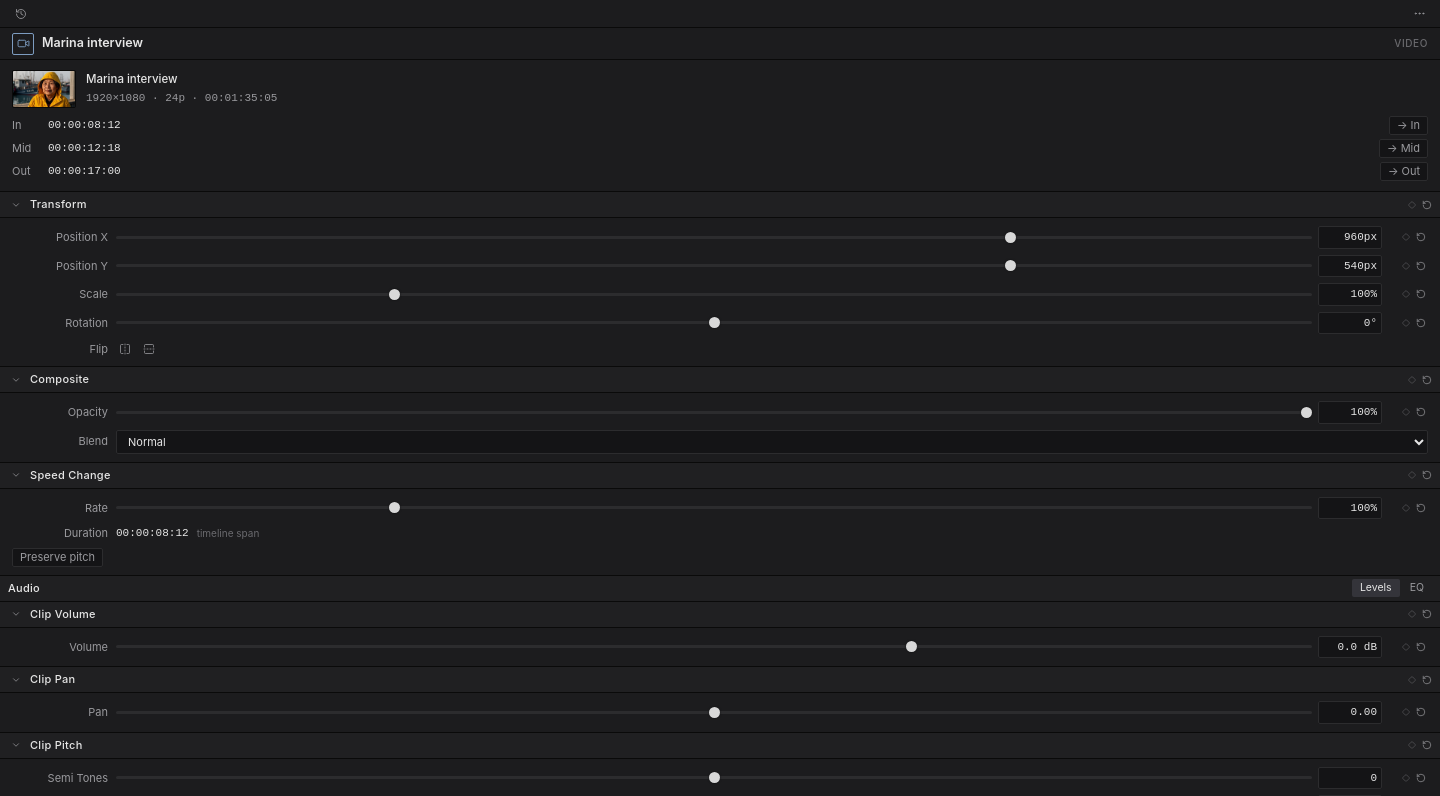
Test: Inspector (R20-W3 D4 — type-driven, no tab strip) › Enter settles the commit immediately; Escape aborts without committing
Replace the text in the field named "Opacity value" with "50" at (1350, 412), box [1318,401,1382,424]
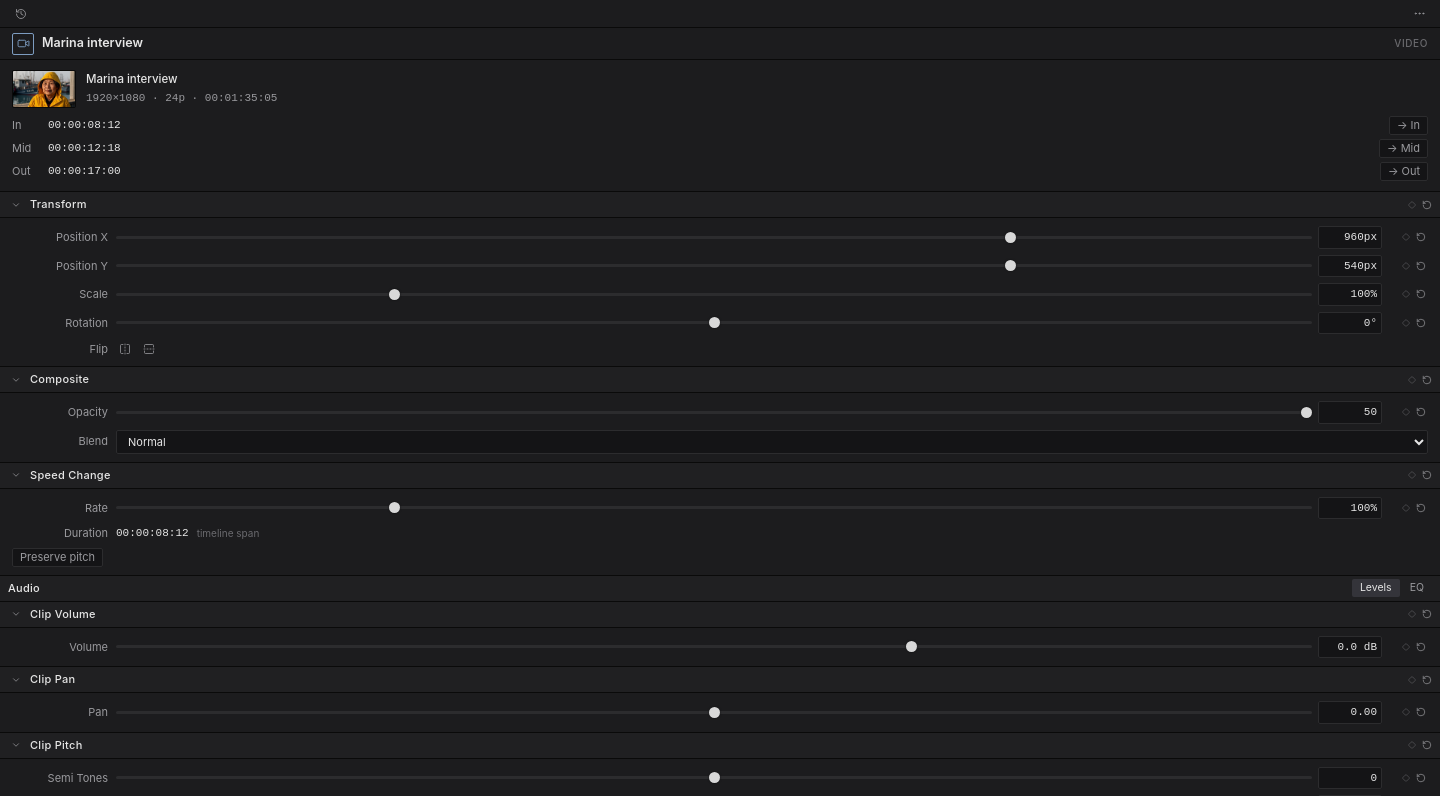
Press Enter in the field named "Opacity value", box [1318,401,1382,424]
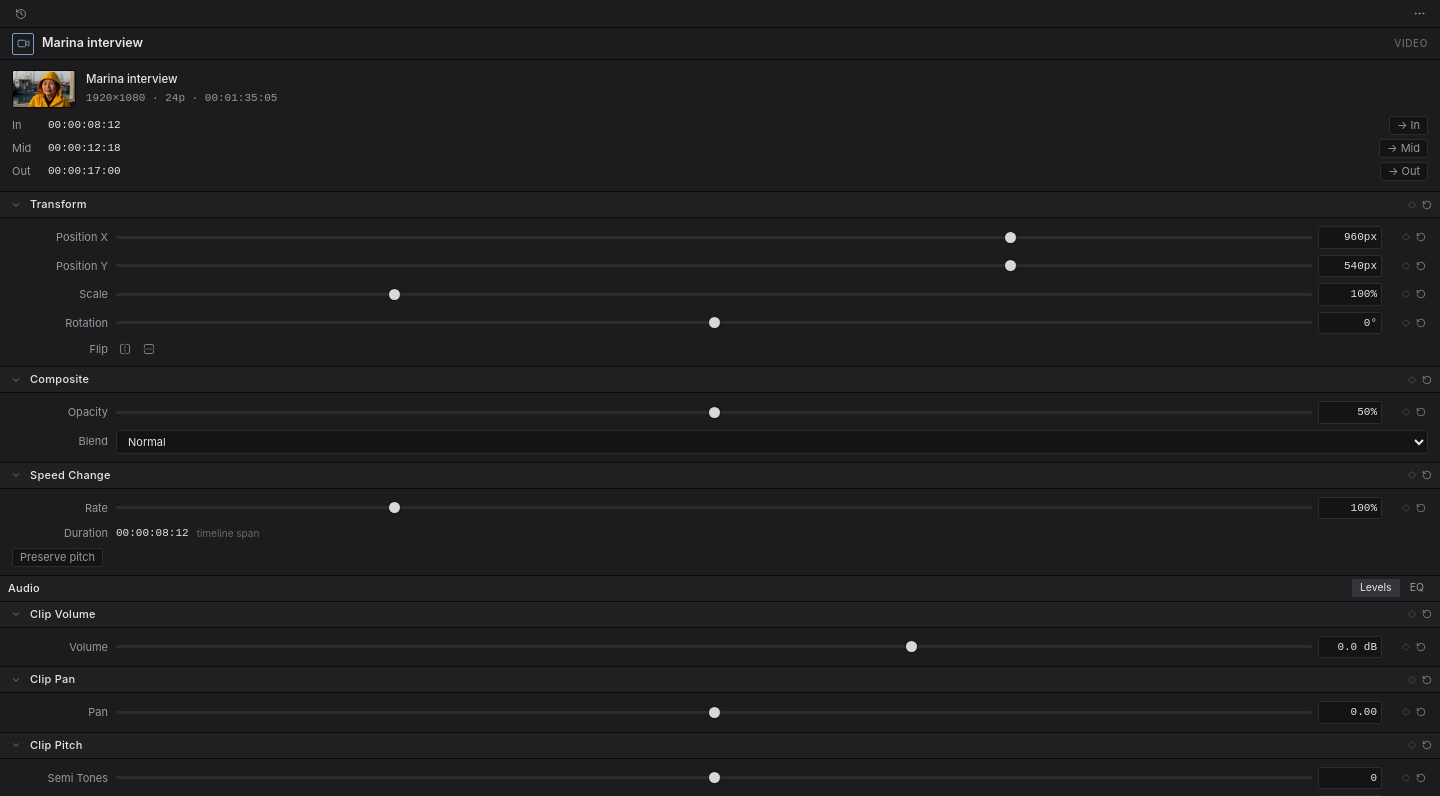
Now the field named "Opacity value" holds "50%"
Replace the text in the field named "Opacity value" with "25" at (1350, 412), box [1318,401,1382,424]
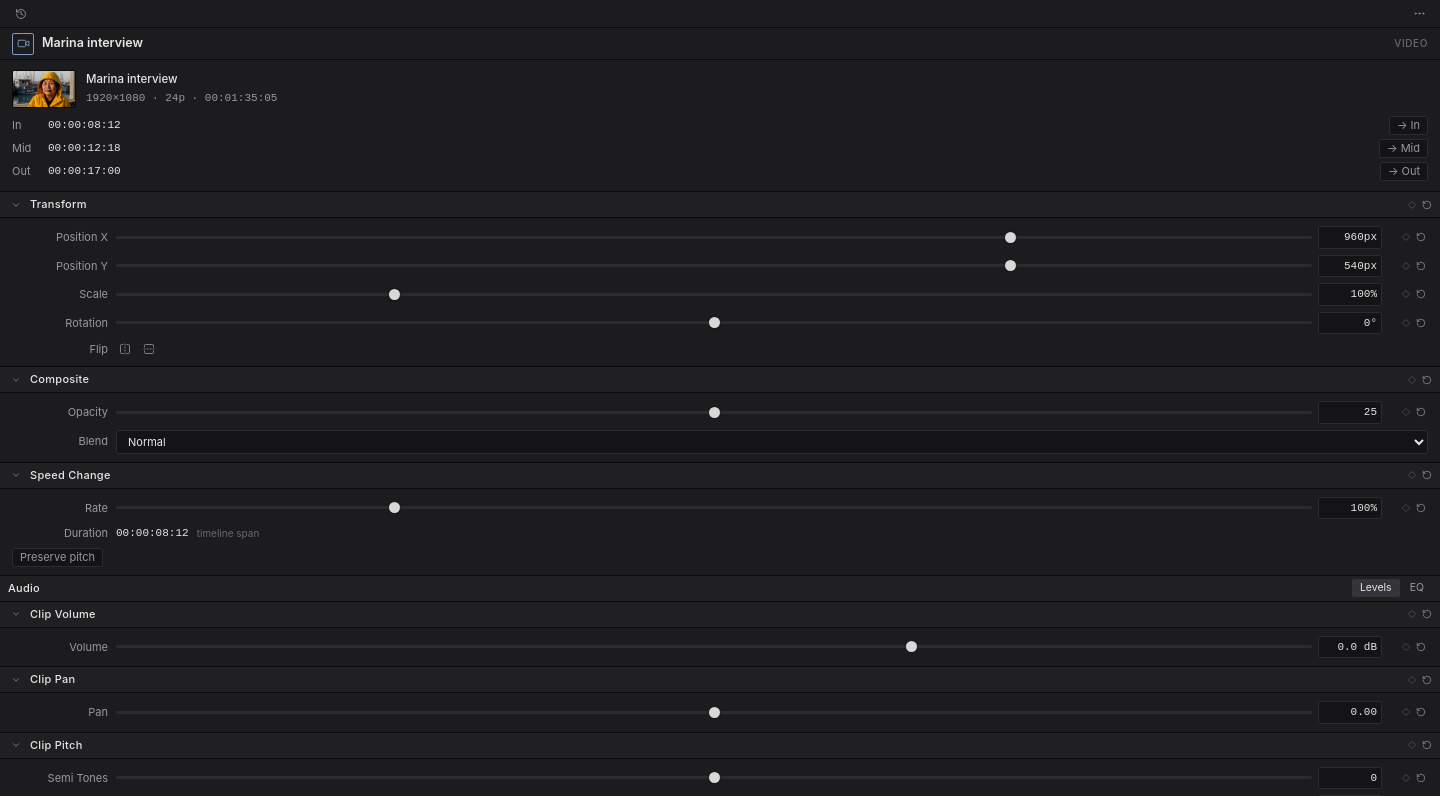
Press Escape in the field named "Opacity value", box [1318,401,1382,424]
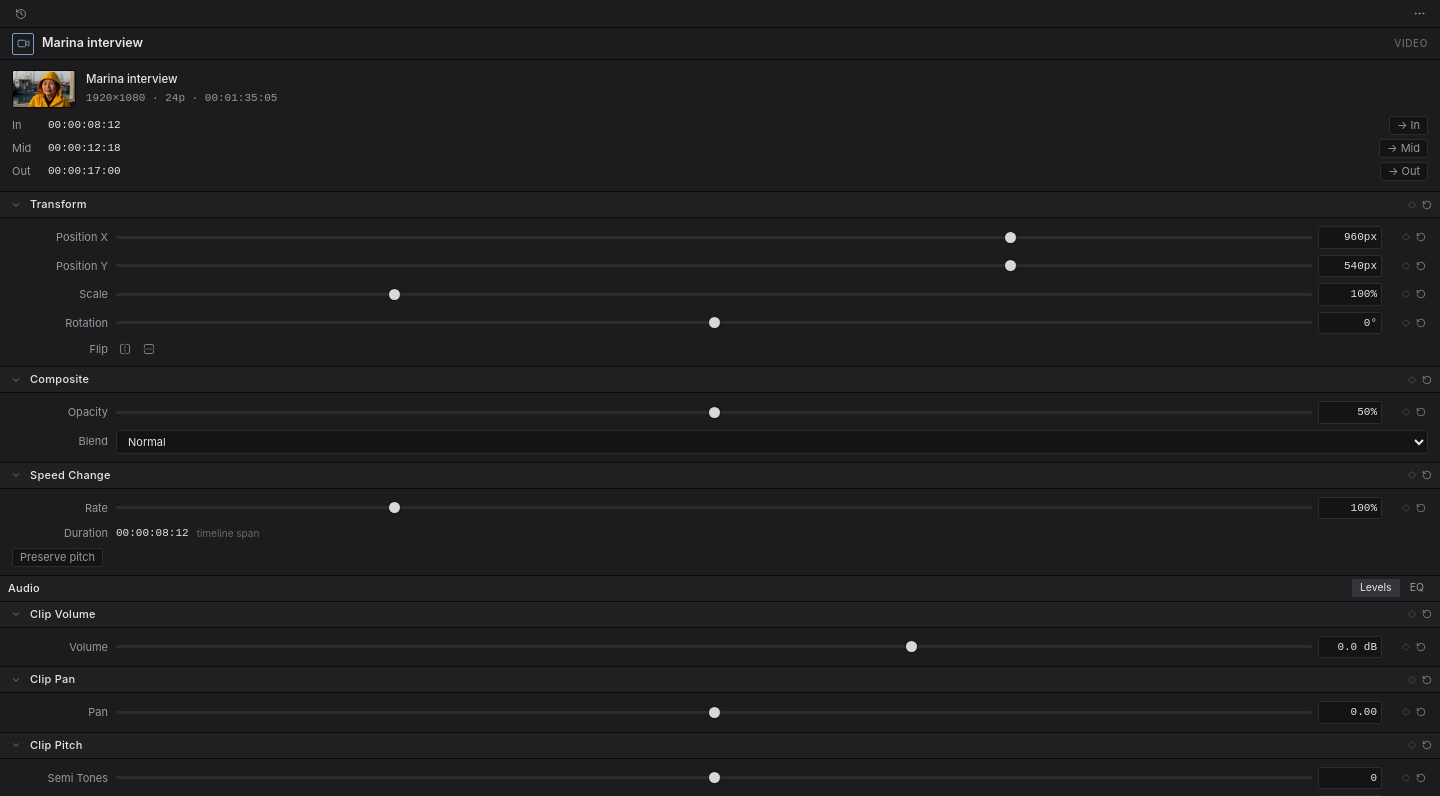
Now the field named "Opacity value" holds "50%", box [1318,401,1382,424]
